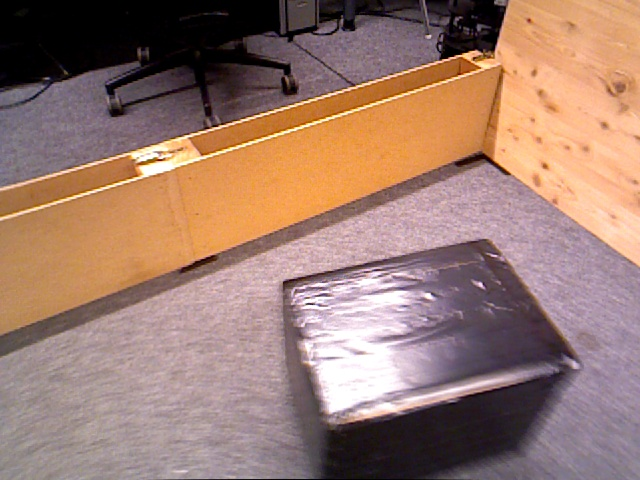push: (277, 240, 582, 480)
